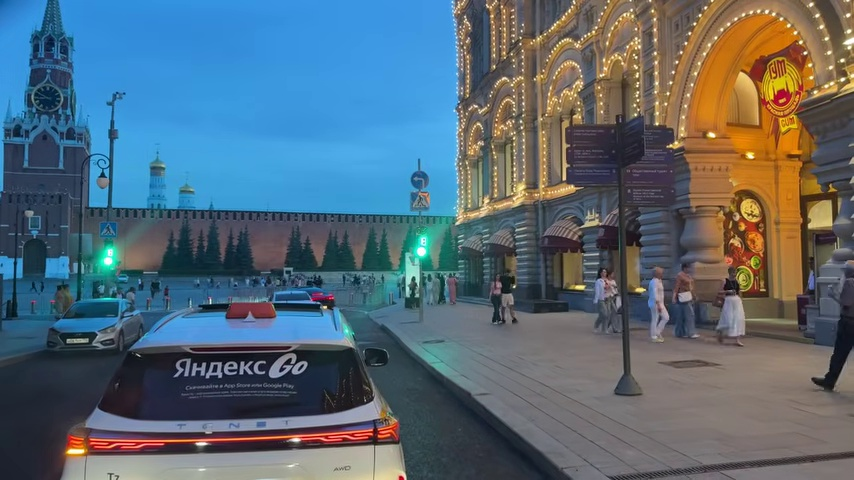apagada: (106, 90, 127, 108)
